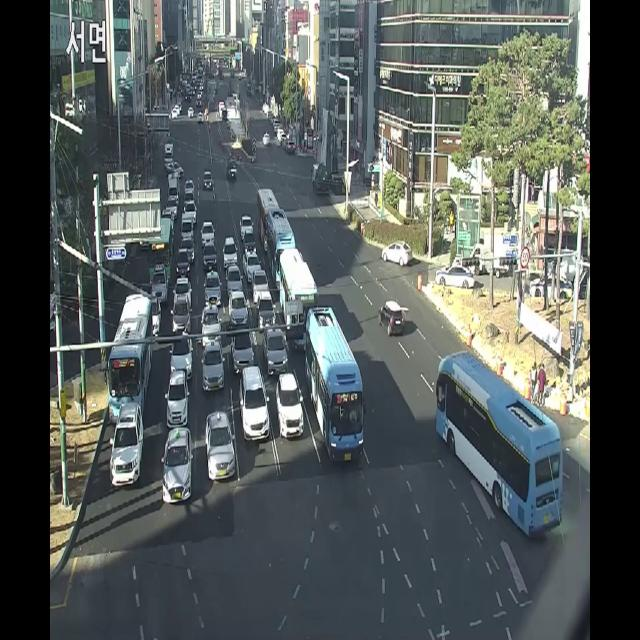car: (429, 346, 573, 549), (304, 298, 375, 463), (107, 283, 152, 414), (274, 244, 322, 349), (266, 205, 299, 272), (152, 216, 175, 294), (167, 175, 185, 205)
motorcycle: (229, 364, 271, 453), (270, 368, 310, 444), (113, 397, 146, 482), (206, 409, 239, 484), (163, 427, 190, 515), (202, 332, 226, 393), (168, 366, 192, 426), (170, 332, 198, 381), (257, 186, 279, 246), (264, 321, 291, 369), (198, 305, 226, 351), (228, 324, 254, 372), (436, 264, 475, 294), (384, 234, 414, 272), (170, 289, 192, 339), (225, 290, 249, 332), (148, 260, 170, 302), (383, 294, 407, 332), (146, 290, 164, 336), (200, 268, 221, 306), (250, 268, 270, 306), (171, 272, 190, 310), (257, 286, 272, 334), (171, 246, 190, 278), (222, 230, 236, 273), (181, 195, 201, 225), (229, 264, 246, 299), (203, 242, 220, 276), (240, 250, 264, 274), (168, 156, 186, 185), (223, 154, 239, 185), (163, 201, 181, 227), (181, 238, 197, 264), (240, 218, 257, 242), (181, 174, 195, 197), (245, 229, 256, 253), (202, 170, 213, 193)
truck: (179, 211, 195, 245), (165, 139, 175, 172)
